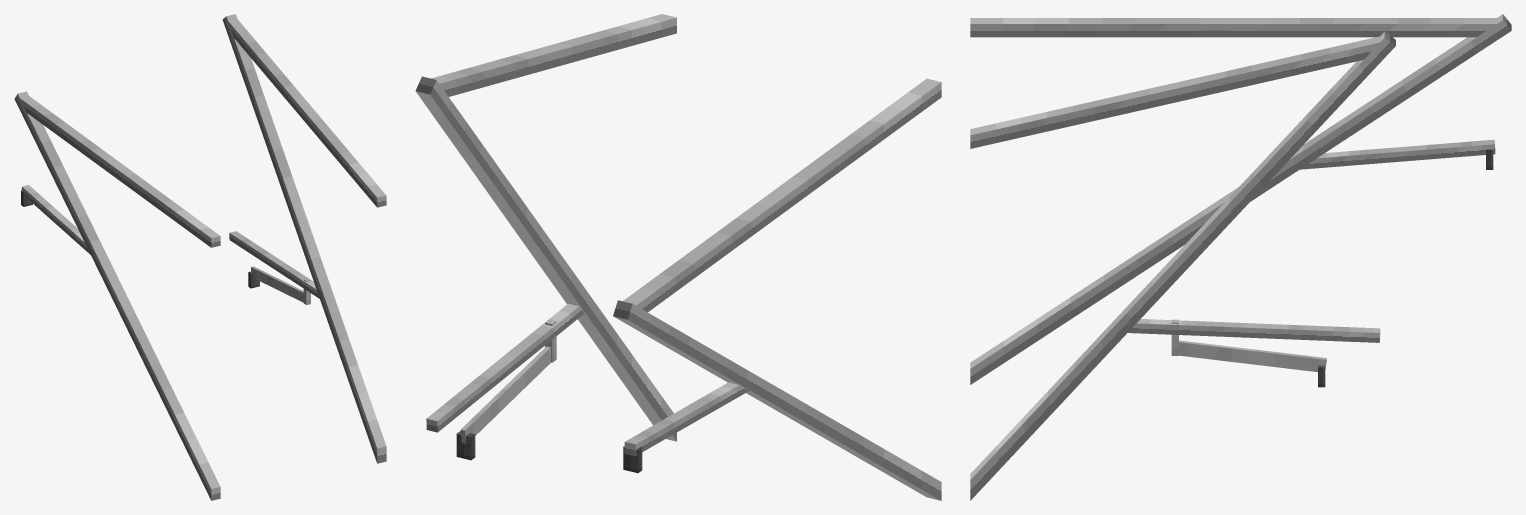
Rendered from cantilever_inner_8px.obj.
The picture shows the model from 3 angles, left to right: view 1: azimuth 30°, elevation 25°; view 2: azimuth 150°, elevation 25°; view 3: azimuth 270°, elevation 25°; orthographic projection. The views are drawn at different scales.
Visible parts, largest first — view 1: 10ef4aba-e31d-44b2-9818-46d428d3092c, 6fa38e32-f6de-4728-942b-4bcd05daf40d, b5fd7dc4-ddf9-443e-ab4c-92192a73c6b3, e1a30338-44d4-4386-a293-2483c326ea27, 5f376ba2-30d8-4344-9421-6d89030afb8d, db13a65c-3499-4800-ae95-1c73e714704f, 71a052a7-8e29-4098-8fe3-7cb01c3deb96; view 2: 10ef4aba-e31d-44b2-9818-46d428d3092c, b5fd7dc4-ddf9-443e-ab4c-92192a73c6b3, 6fa38e32-f6de-4728-942b-4bcd05daf40d, e1a30338-44d4-4386-a293-2483c326ea27, 5f376ba2-30d8-4344-9421-6d89030afb8d, db13a65c-3499-4800-ae95-1c73e714704f, 71a052a7-8e29-4098-8fe3-7cb01c3deb96; view 3: 10ef4aba-e31d-44b2-9818-46d428d3092c, 6fa38e32-f6de-4728-942b-4bcd05daf40d, b5fd7dc4-ddf9-443e-ab4c-92192a73c6b3, e1a30338-44d4-4386-a293-2483c326ea27, 5f376ba2-30d8-4344-9421-6d89030afb8d, db13a65c-3499-4800-ae95-1c73e714704f, 71a052a7-8e29-4098-8fe3-7cb01c3deb96.
Boxes of the visible parts, x1=… form: 10ef4aba-e31d-44b2-9818-46d428d3092c: x1=222, y1=14, x2=386, y2=463; 6fa38e32-f6de-4728-942b-4bcd05daf40d: x1=14, y1=91, x2=220, y2=500; b5fd7dc4-ddf9-443e-ab4c-92192a73c6b3: x1=20, y1=96, x2=220, y2=247; e1a30338-44d4-4386-a293-2483c326ea27: x1=228, y1=19, x2=386, y2=207; 5f376ba2-30d8-4344-9421-6d89030afb8d: x1=229, y1=231, x2=319, y2=298; db13a65c-3499-4800-ae95-1c73e714704f: x1=21, y1=185, x2=90, y2=254; 71a052a7-8e29-4098-8fe3-7cb01c3deb96: x1=251, y1=266, x2=303, y2=302; 10ef4aba-e31d-44b2-9818-46d428d3092c: x1=415, y1=76, x2=676, y2=441; b5fd7dc4-ddf9-443e-ab4c-92192a73c6b3: x1=623, y1=78, x2=941, y2=312; 6fa38e32-f6de-4728-942b-4bcd05daf40d: x1=613, y1=300, x2=941, y2=500; e1a30338-44d4-4386-a293-2483c326ea27: x1=431, y1=14, x2=676, y2=96; 5f376ba2-30d8-4344-9421-6d89030afb8d: x1=426, y1=303, x2=584, y2=432; db13a65c-3499-4800-ae95-1c73e714704f: x1=624, y1=382, x2=749, y2=456; 71a052a7-8e29-4098-8fe3-7cb01c3deb96: x1=460, y1=346, x2=550, y2=443; 10ef4aba-e31d-44b2-9818-46d428d3092c: x1=970, y1=31, x2=1395, y2=500; 6fa38e32-f6de-4728-942b-4bcd05daf40d: x1=970, y1=14, x2=1511, y2=384; b5fd7dc4-ddf9-443e-ab4c-92192a73c6b3: x1=970, y1=18, x2=1496, y2=37; e1a30338-44d4-4386-a293-2483c326ea27: x1=970, y1=36, x2=1379, y2=148; 5f376ba2-30d8-4344-9421-6d89030afb8d: x1=1128, y1=319, x2=1380, y2=342; db13a65c-3499-4800-ae95-1c73e714704f: x1=1300, y1=139, x2=1495, y2=169; 71a052a7-8e29-4098-8fe3-7cb01c3deb96: x1=1179, y1=340, x2=1326, y2=372.
Bounding box in the file's own units: 1.19 × 2.18 × 2.31.
